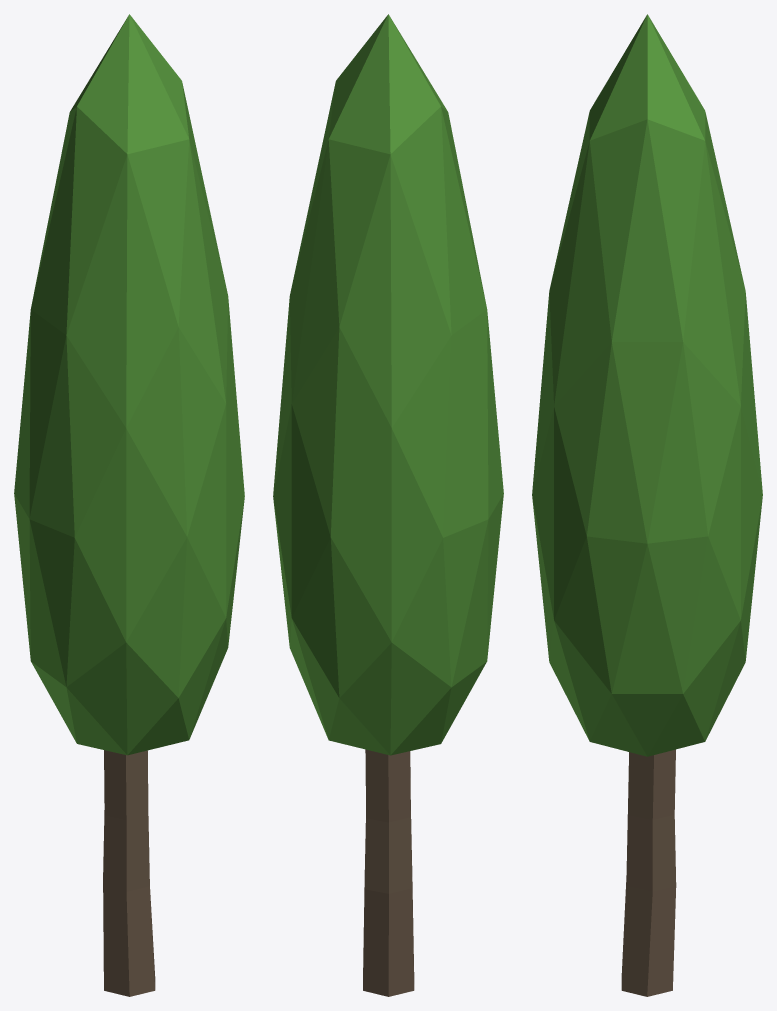
File: Tree3.fbx
The picture shows the model from 3 angles, left to right: view 1: azimuth 30°, elevation 25°; view 2: azimuth 150°, elevation 25°; view 3: azimuth 270°, elevation 25°; orthographic projection.
Visible parts, largest first — view 1: Tree_3_LOD0; view 2: Tree_3_LOD0; view 3: Tree_3_LOD0.
Part boxes in pixels (x1,y1,x2,y2): Tree_3_LOD0: [14, 14, 244, 996]; Tree_3_LOD0: [273, 14, 503, 996]; Tree_3_LOD0: [532, 14, 762, 996].
Size of the model in its own units: 115 by 532 by 115.
